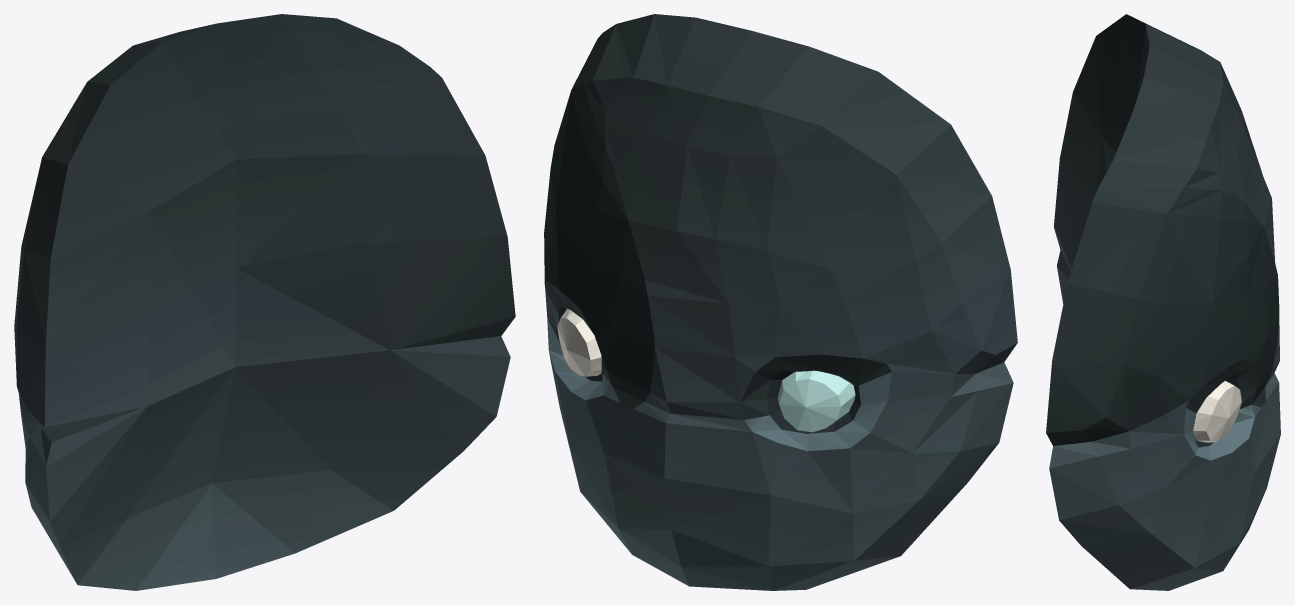
Rendered from CharSkyKid_Mask_AP31Starry.glb.
3 renders of one model, left to right at view 1: azimuth 30°, elevation 25°; view 2: azimuth 150°, elevation 25°; view 3: azimuth 270°, elevation 25°, orthographic. The views are drawn at different scales.
Visible parts, largest first — view 1: CharSkyKid_Mask_AP31Starry; view 2: CharSkyKid_Mask_AP31Starry; view 3: CharSkyKid_Mask_AP31Starry.
Boxes of the visible parts, x1,y1,x2,y2 form: CharSkyKid_Mask_AP31Starry: (14, 14, 515, 590); CharSkyKid_Mask_AP31Starry: (544, 14, 1017, 590); CharSkyKid_Mask_AP31Starry: (1046, 14, 1280, 590).
Bounding box in the file's own units: 2.12 × 2.49 × 1.02.
1 material, 1 textured.
